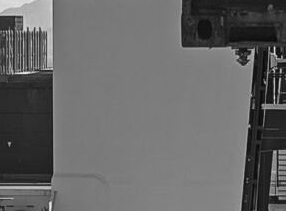twist_lock_2: (230, 43, 255, 73)
